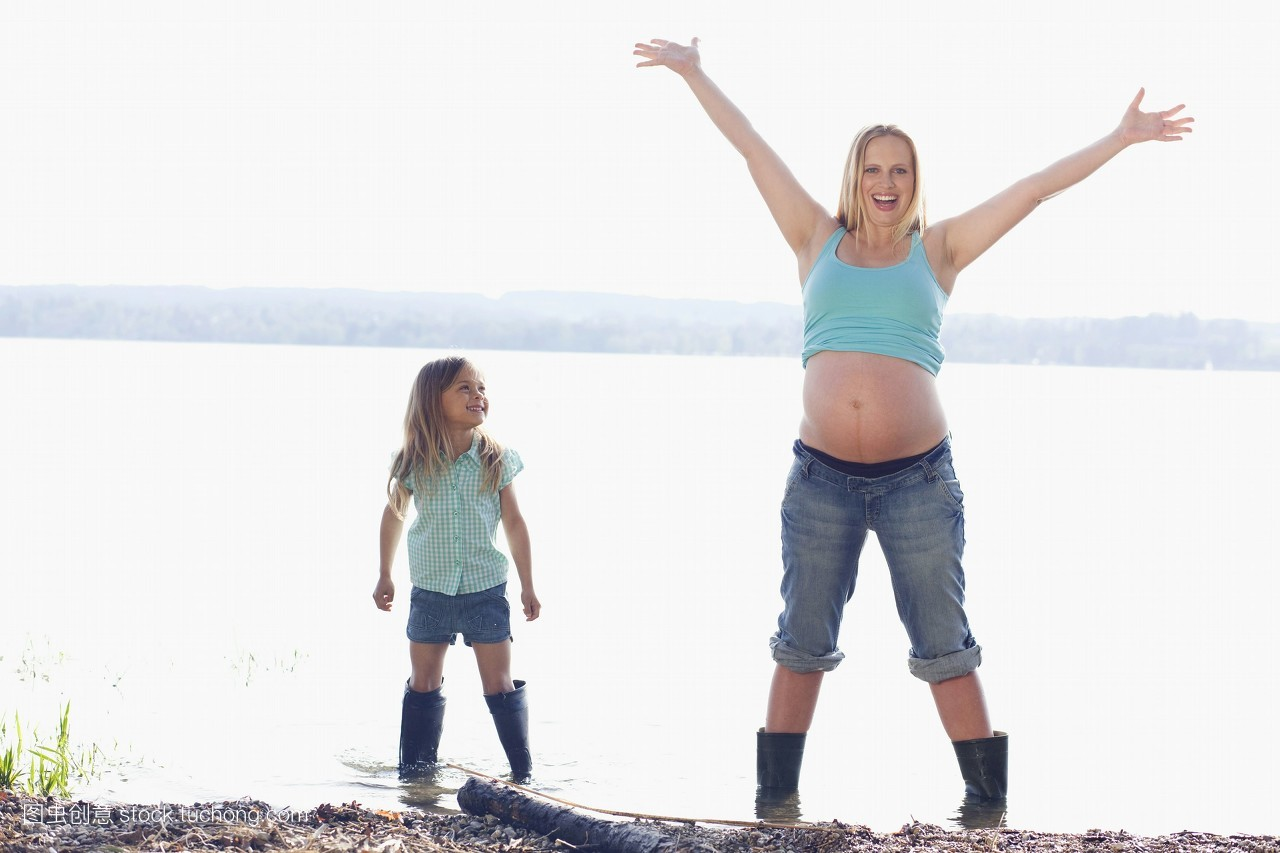handsup: (630, 24, 1199, 850)
other: (354, 346, 575, 815)
